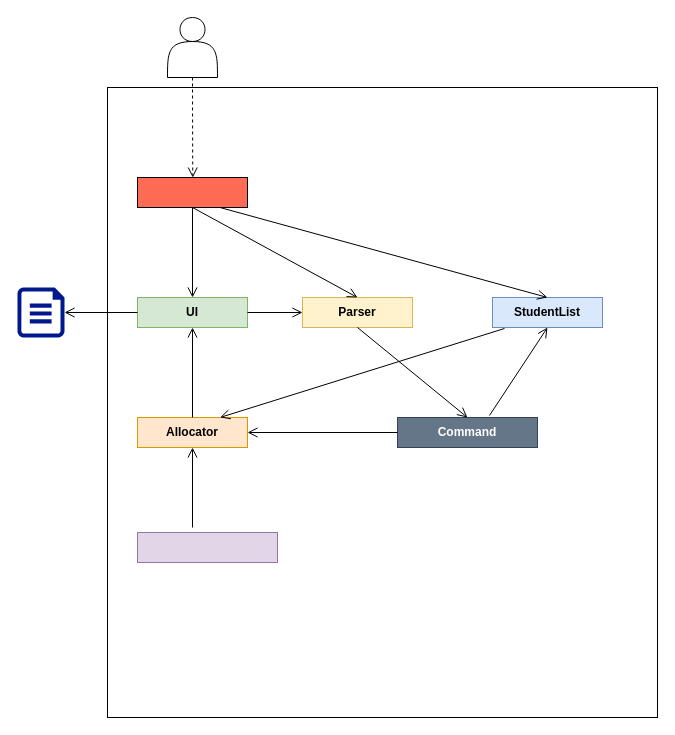
This 675x735 diagram has some shape labels left out. The centre of each missing label's shape, as x and y in pixels:
"Main" goes at point (192, 192).
"UniversityRepository" goes at point (207, 547).
